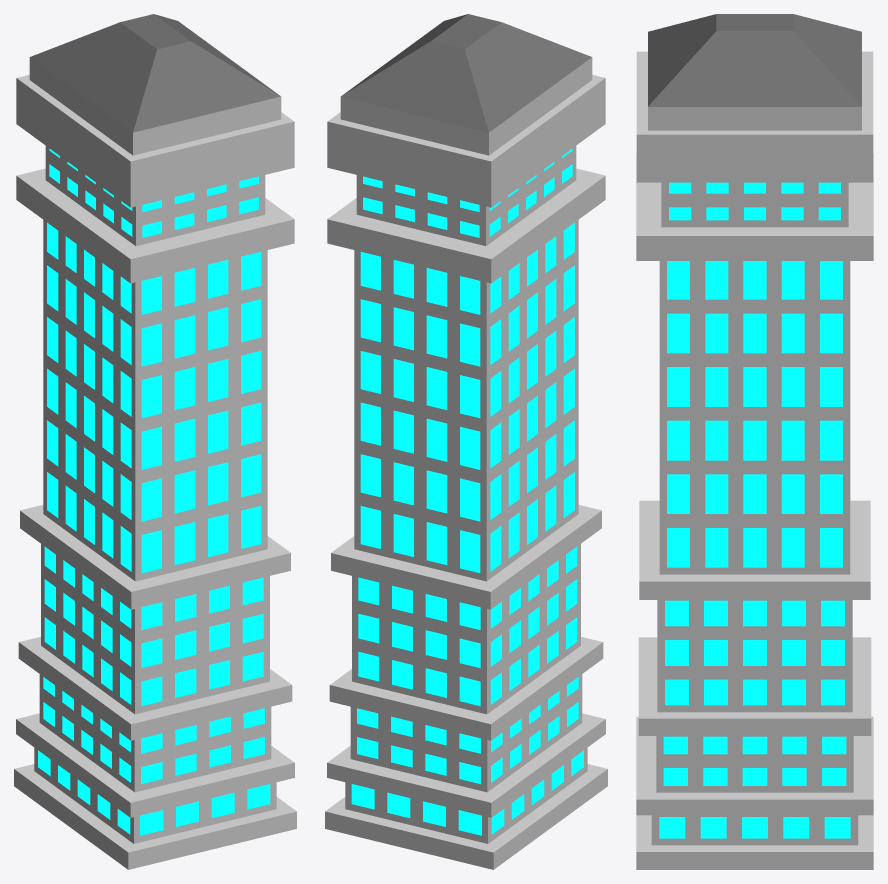
Rendered from gameTowerFive.fbx.
3 views of the same model, side by side, from view 1: azimuth 30°, elevation 25°; view 2: azimuth 150°, elevation 25°; view 3: azimuth 270°, elevation 25° (orthographic). The views are drawn at different scales.
Parts seen in each view (by area): view 1: Cube; view 2: Cube; view 3: Cube.
Part boxes in pixels (x1=…): Cube: x1=14, y1=14, x2=296, y2=869; Cube: x1=325, y1=14, x2=607, y2=869; Cube: x1=636, y1=14, x2=873, y2=869.
Bounding box in the file's own units: 836 × 711 × 3125.
